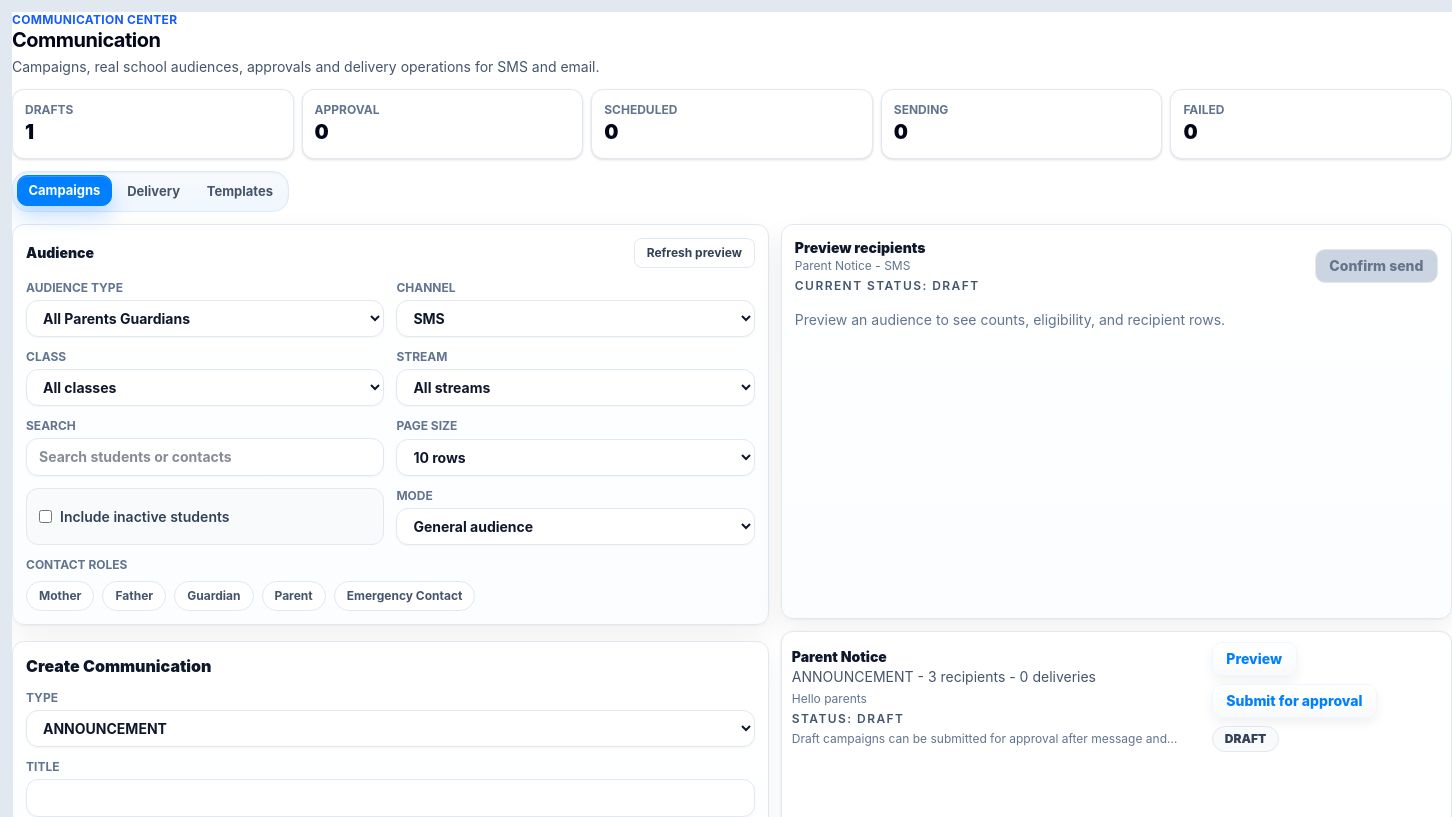
CommunicationsPage › shows Submit for approval for drafts and refreshes after submission
Click the button "Submit for approval" at (1294, 700), box left=1212, top=684, right=1377, bottom=718
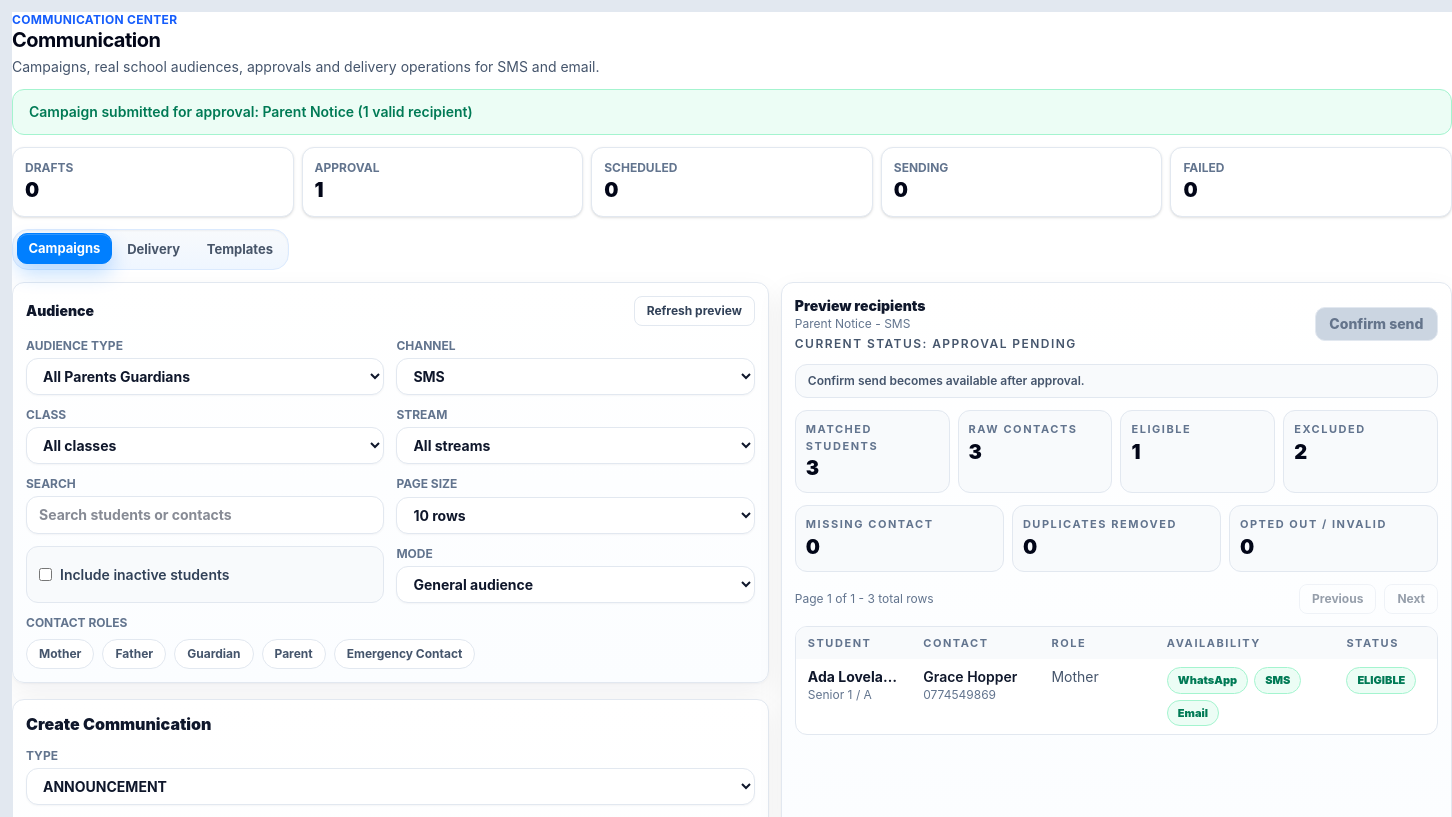
expect the text "Campaign submitted for approval: Parent Notice (1 valid recipient)" is shown: met, box left=12, top=89, right=1451, bottom=135
